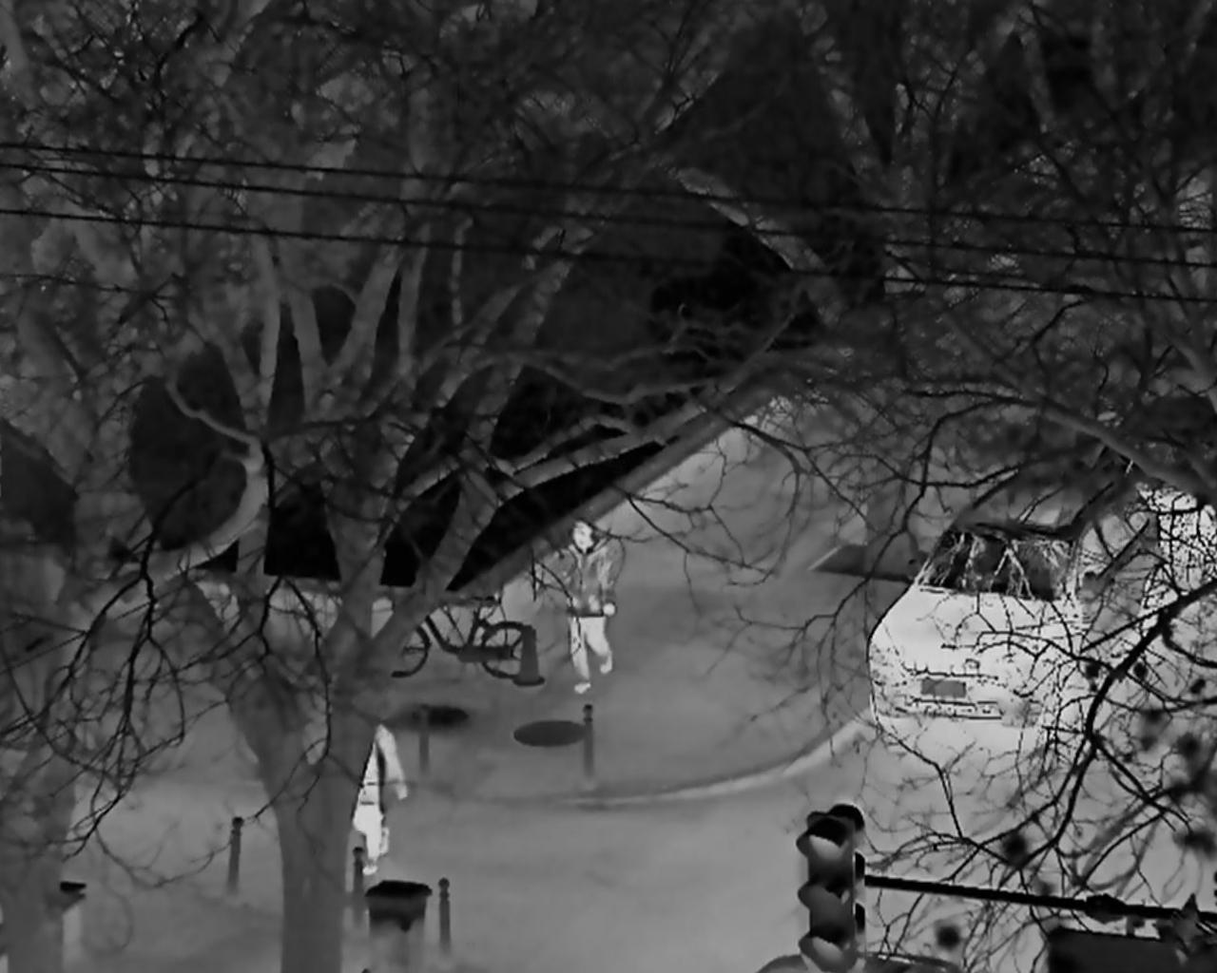person: (349, 722, 412, 874), (566, 519, 616, 696)
